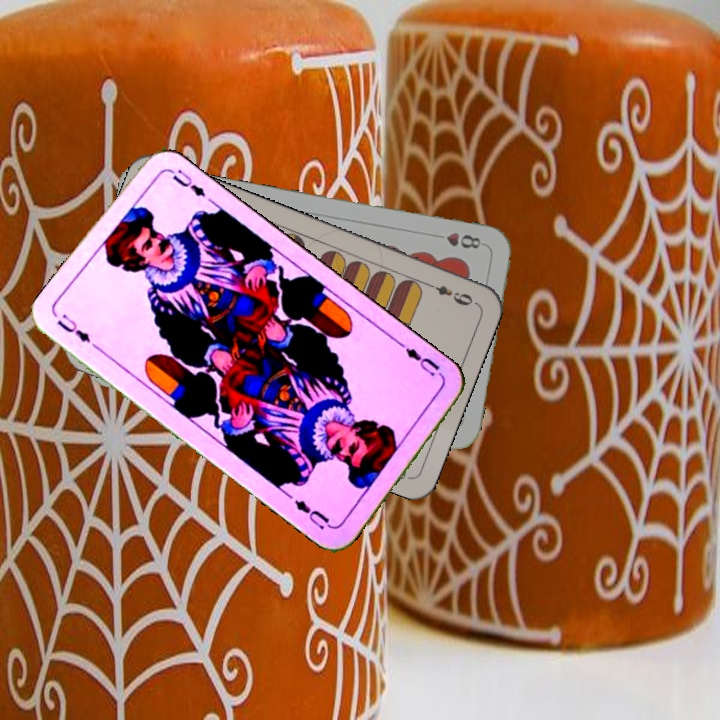E9: (422, 278, 478, 309)
EU: (396, 339, 443, 379), (53, 309, 93, 345)
H8: (429, 228, 484, 252)
